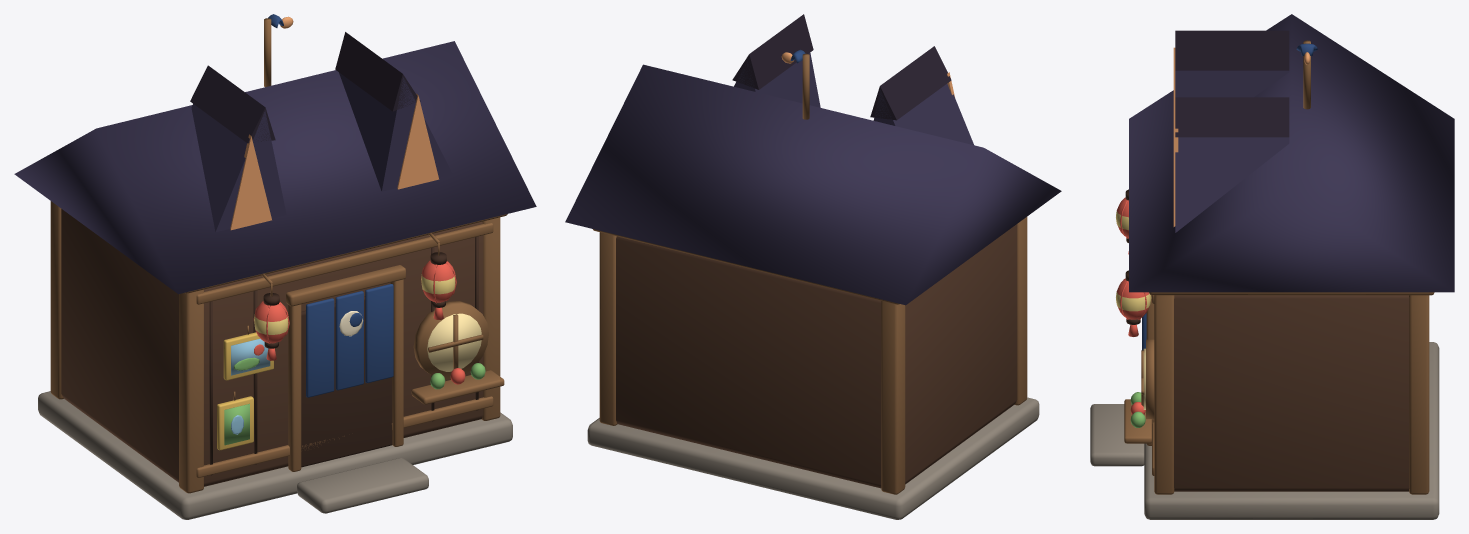
Rendered from fox-shop.glb.
3 renders of one model, left to right at view 1: azimuth 30°, elevation 25°; view 2: azimuth 150°, elevation 25°; view 3: azimuth 270°, elevation 25°, orthographic. The views are drawn at different scales.
Parts seen in each view (by area): view 1: shop; view 2: shop; view 3: shop.
Boxes of the visible parts, x1,y1,x2,y2 form: shop: (14, 14, 536, 519); shop: (565, 14, 1061, 519); shop: (1090, 14, 1454, 519).
Size of the model in its own units: 2.66 by 2.88 by 2.36.
